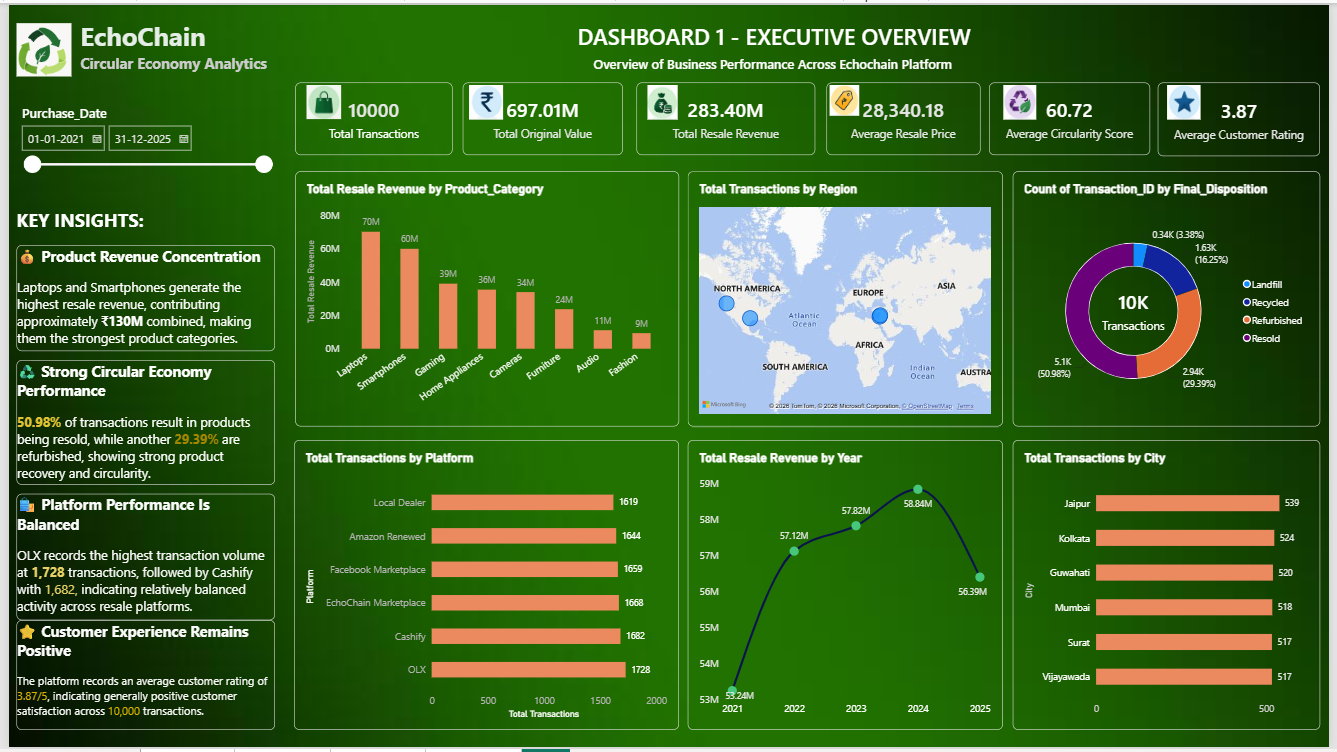

The page's visual inventory and layout, read from the dashboard file:
{"tool":"powerbi","page":{"name":"Page 1","canvas":[1920,1080],"ordinal":0},"visuals":[{"type":"card","fields":{"Values":["EchoChain_Data_Cleaned.Total Transactions"]},"box":[416.4,112.7,229.1,105.5],"z":0},{"type":"card","fields":{"Values":["EchoChain_Data_Cleaned.Total Original Value"]},"box":[660,112.7,232.7,105.5],"z":1000},{"type":"card","fields":{"Values":["EchoChain_Data_Cleaned.Total Resale Revenue"]},"box":[912.7,112.7,260,105.5],"z":2000},{"type":"card","fields":{"Values":["EchoChain_Data_Cleaned.Average Resale Price"]},"box":[1189.1,112.7,223.6,105.5],"z":3000},{"type":"card","fields":{"Values":["EchoChain_Data_Cleaned.Average Circularity Score"]},"box":[1425.5,112.7,234.5,105.5],"z":4000},{"type":"card","fields":{"Values":["EchoChain_Data_Cleaned.Average Customer Rating"]},"box":[1670.9,112.7,236.4,107.3],"z":5000},{"type":"textbox","box":[378.2,23.6,1478.2,63.6],"z":6000},{"type":"textbox","box":[523.6,72.7,1174.5,40],"z":7000},{"type":"textbox","box":[103.6,20,283.6,145.5],"z":8000},{"type":"clusteredColumnChart","fields":{"Category":["EchoChain_Data_Cleaned.Product_Category"],"Y":["EchoChain_Data_Cleaned.Total Resale Revenue"]},"box":[416.4,241.8,558.2,370.9],"z":9000},{"type":"clusteredBarChart","fields":{"Category":["EchoChain_Data_Cleaned.Platform"],"Y":["EchoChain_Data_Cleaned.Total Transactions"]},"box":[414.5,632.7,560,421.8],"z":10000},{"type":"donutChart","fields":{"Category":["EchoChain_Data_Cleaned.Final_Disposition"],"Y":["CountNonNull(EchoChain_Data_Cleaned.Transaction_ID)"]},"box":[1460,241.8,447.3,370.9],"z":11000},{"type":"map","fields":{"Category":["EchoChain_Data_Cleaned.Region"],"Size":["EchoChain_Data_Cleaned.Total Transactions"]},"box":[987.3,241.8,458.2,370.9],"z":12000},{"type":"lineChart","fields":{"Category":["EchoChain_Data_Cleaned.Purchase_Date.Variation.Date Hierarchy.Year","EchoChain_Data_Cleaned.Purchase_Date.Variation.Date Hierarchy.Quarter","EchoChain_Data_Cleaned.Purchase_Date.Variation.Date Hierarchy.Month","EchoChain_Data_Cleaned.Purchase_Date.Variation.Date Hierarchy.Day"],"Y":["EchoChain_Data_Cleaned.Total Resale Revenue"]},"box":[987.3,632.7,458.2,421.8],"z":13000},{"type":"clusteredBarChart","fields":{"Category":["EchoChain_Data_Cleaned.City"],"Y":["EchoChain_Data_Cleaned.Total Transactions"]},"box":[1460,632.7,447.3,421.8],"z":14000},{"type":"image","box":[432.7,116.4,50,50],"z":15000},{"type":"image","box":[669.1,116.4,50,50],"z":16000},{"type":"image","box":[925.5,116.4,50,50],"z":17000},{"type":"image","box":[1192.7,116.4,45,45],"z":18000},{"type":"image","box":[1445.5,116.4,50,50],"z":19000},{"type":"image","box":[1683.6,116.4,50,50],"z":20000},{"type":"slicer","fields":{"Values":["EchoChain_Data_Cleaned.Purchase_Date"]},"box":[10.9,143.6,376.4,150.9],"z":21000},{"type":"textbox","box":[10.9,349.1,376.4,154.5],"z":22000},{"type":"textbox","box":[10.9,294.5,220,41.8],"z":23000},{"type":"textbox","box":[10.9,516.4,376.4,181.8],"z":24000},{"type":"image","box":[10.9,20,80,90.9],"z":25000},{"type":"textbox","box":[10.9,710.9,376.4,183.6],"z":26000},{"type":"textbox","box":[10.9,910.9,376.4,143.6],"z":27000}]}

Visuals, with their boxes in screenshot pixels (x1, y1, x2, y2), scaled from the page's 1920x1080 canvas onto the 1337x752 screenshot:
card - EchoChain_Data_Cleaned.Total Transactions: (290,78,449,152)
card - EchoChain_Data_Cleaned.Total Original Value: (460,78,622,152)
card - EchoChain_Data_Cleaned.Total Resale Revenue: (636,78,817,152)
card - EchoChain_Data_Cleaned.Average Resale Price: (828,78,984,152)
card - EchoChain_Data_Cleaned.Average Circularity Score: (993,78,1156,152)
card - EchoChain_Data_Cleaned.Average Customer Rating: (1164,78,1328,153)
textbox: (263,16,1293,61)
textbox: (365,51,1182,78)
textbox: (72,14,270,115)
clusteredColumnChart - EchoChain_Data_Cleaned.Product_Category x EchoChain_Data_Cleaned.Total Resale Revenue: (290,168,679,427)
clusteredBarChart - EchoChain_Data_Cleaned.Platform x EchoChain_Data_Cleaned.Total Transactions: (289,441,679,734)
donutChart - EchoChain_Data_Cleaned.Final_Disposition x CountNonNull(EchoChain_Data_Cleaned.Transaction_ID): (1017,168,1328,427)
map - EchoChain_Data_Cleaned.Region x EchoChain_Data_Cleaned.Total Transactions: (688,168,1007,427)
lineChart - EchoChain_Data_Cleaned.Purchase_Date.Variation.Date Hierarchy.Year x EchoChain_Data_Cleaned.Purchase_Date.Variation.Date Hierarchy.Quarter: (688,441,1007,734)
clusteredBarChart - EchoChain_Data_Cleaned.City x EchoChain_Data_Cleaned.Total Transactions: (1017,441,1328,734)
image: (301,81,336,116)
image: (466,81,501,116)
image: (644,81,679,116)
image: (831,81,862,112)
image: (1007,81,1041,116)
image: (1172,81,1207,116)
slicer - EchoChain_Data_Cleaned.Purchase_Date: (8,100,270,205)
textbox: (8,243,270,351)
textbox: (8,205,161,234)
textbox: (8,360,270,486)
image: (8,14,63,77)
textbox: (8,495,270,623)
textbox: (8,634,270,734)
